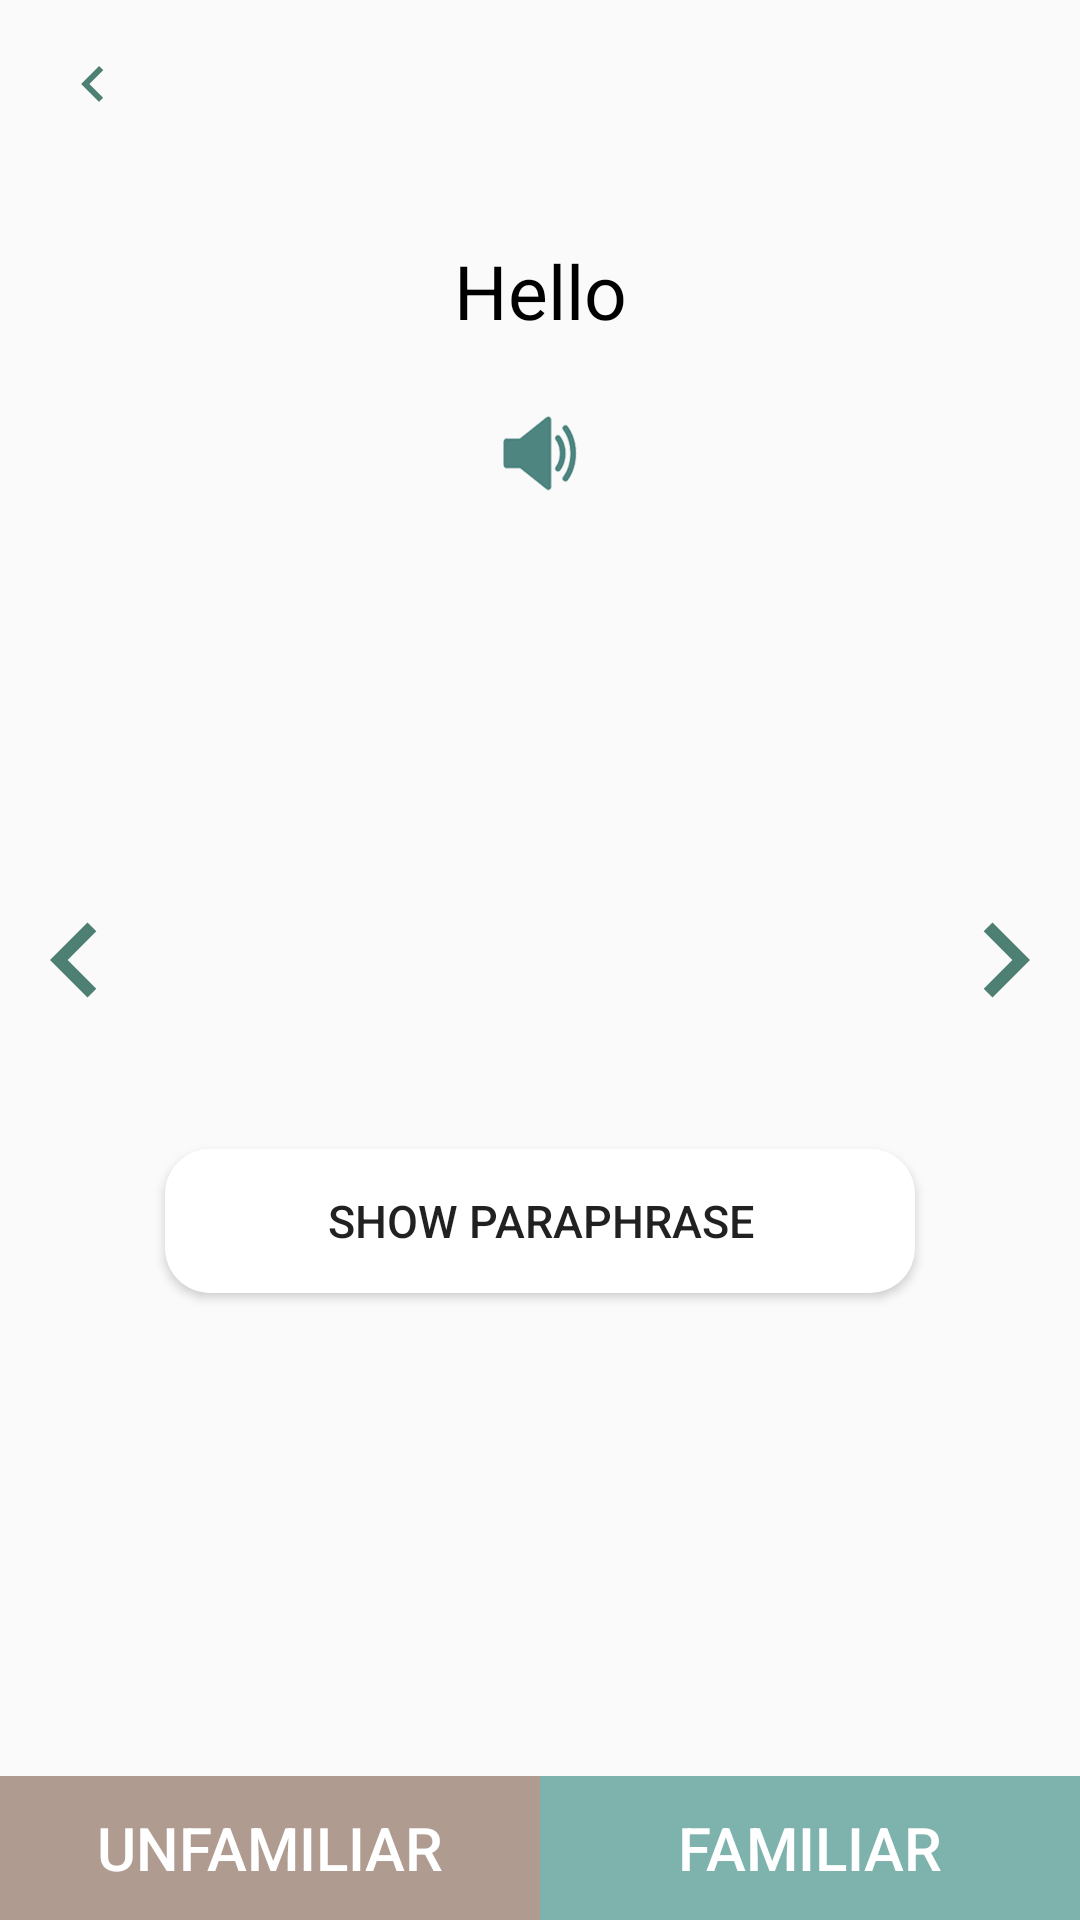

Icons on this 1080px x 1920px Android screen, each with the point to tap as (x,y):
keyboard arrow left: (92,84), (73,960)
navigate next: (1007,960)
voice: (540,453)
